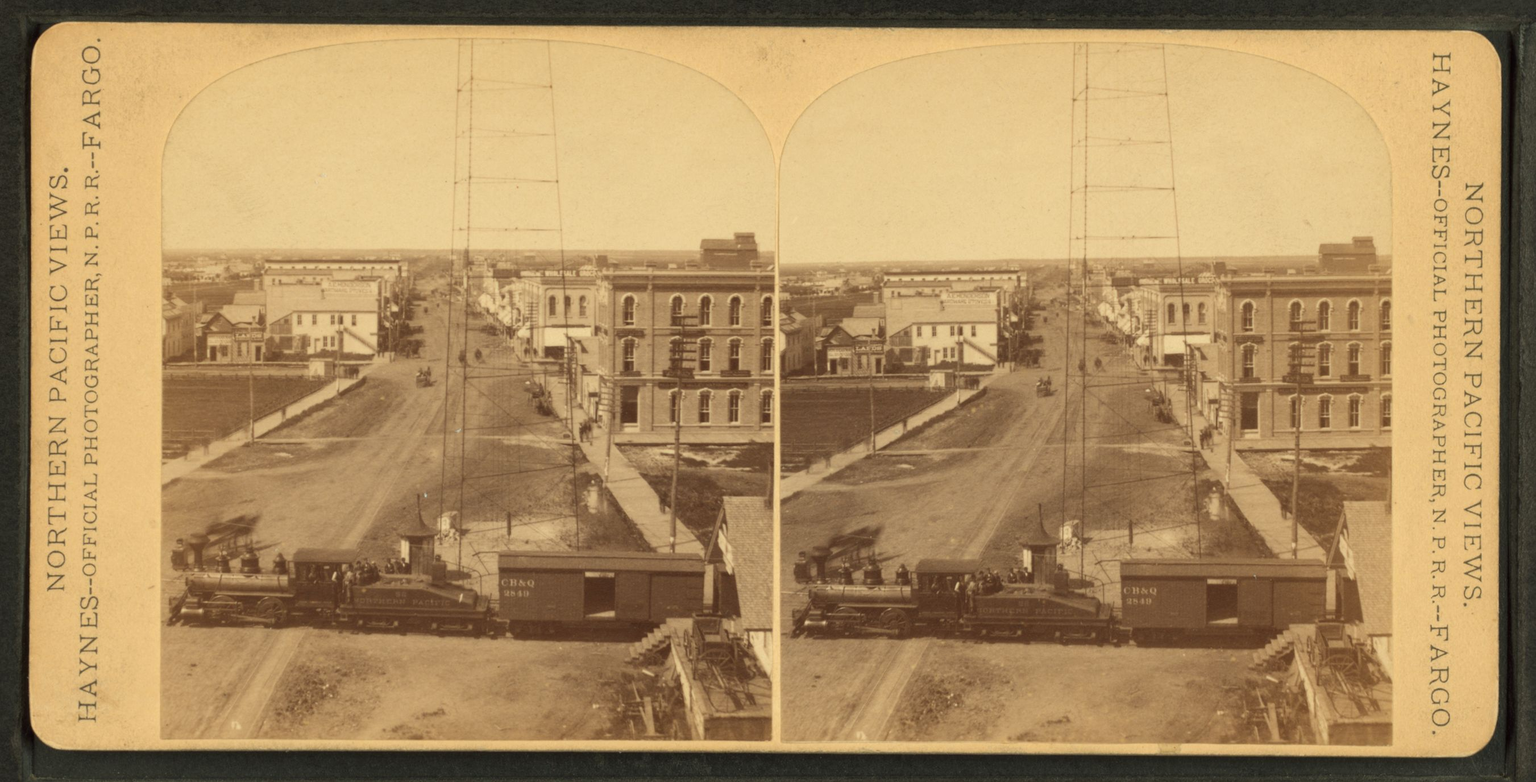half_image: (160, 38, 777, 739), (782, 42, 1392, 744)
